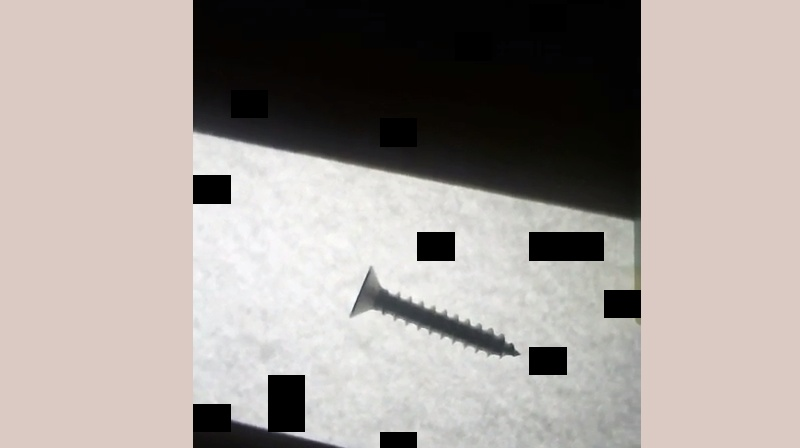S001: (345, 262, 524, 358)
